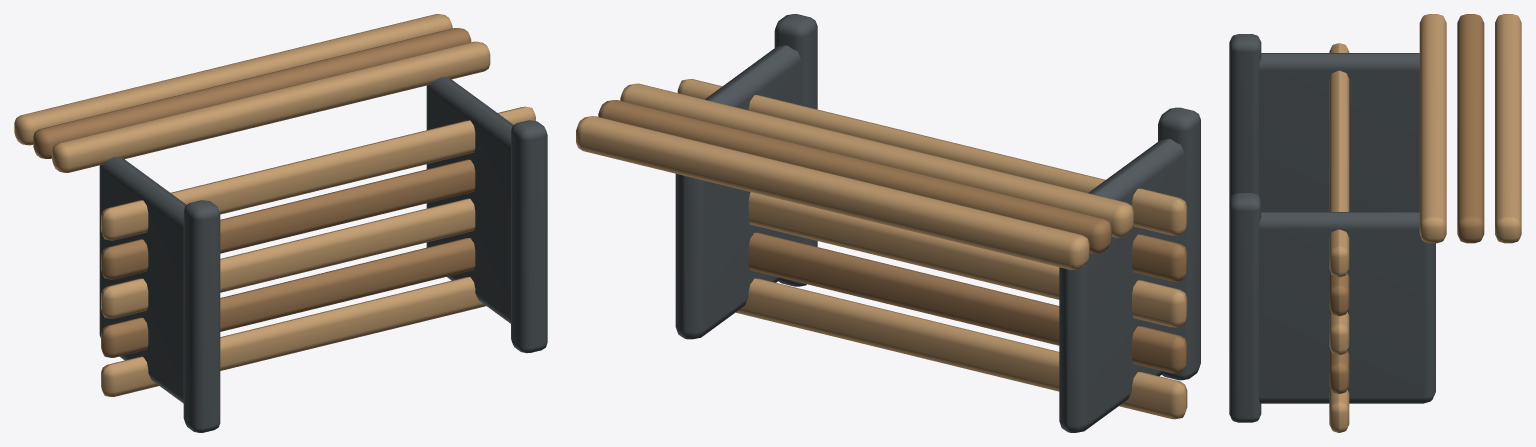
Rendered from banc_baie_des_rois.glb.
3 views of the same model, side by side, from view 1: azimuth 30°, elevation 25°; view 2: azimuth 150°, elevation 25°; view 3: azimuth 270°, elevation 25° (orthographic). The views are drawn at different scales.
Parts seen in each view (by area): view 1: Back_Wood_Slat, Seat_Wood_Slat.004, Bench_Side_Frame, Seat_Wood_Slat, Bench_Side_Frame.001, Seat_Wood_Slat.002, Seat_Wood_Slat.003, Seat_Wood_Slat.001, Bench_Foot, Back_Wood_Slat.002, Back_Wood_Slat.001, Bench_Foot.001; view 2: Back_Wood_Slat.002, Bench_Side_Frame, Seat_Wood_Slat, Bench_Side_Frame.001, Seat_Wood_Slat.001, Seat_Wood_Slat.002, Back_Wood_Slat, Back_Wood_Slat.001, Seat_Wood_Slat.004, Bench_Foot, Bench_Foot.001, Seat_Wood_Slat.003; view 3: Bench_Side_Frame.001, Bench_Side_Frame, Bench_Foot.001, Back_Wood_Slat, Back_Wood_Slat.001, Back_Wood_Slat.002, Bench_Foot, Seat_Wood_Slat.004, Seat_Wood_Slat, Seat_Wood_Slat.001, Seat_Wood_Slat.003, Seat_Wood_Slat.002.
Boxes of the visible parts, box(x1,y1,x2,y2) form: Back_Wood_Slat: box(52, 41, 490, 172); Seat_Wood_Slat.004: box(101, 106, 535, 240); Bench_Side_Frame: box(99, 156, 186, 403); Seat_Wood_Slat: box(101, 277, 485, 396); Bench_Side_Frame.001: box(426, 77, 513, 323); Seat_Wood_Slat.002: box(101, 198, 475, 318); Seat_Wood_Slat.003: box(101, 159, 475, 279); Seat_Wood_Slat.001: box(101, 238, 475, 357); Bench_Foot: box(183, 200, 220, 432); Back_Wood_Slat.002: box(14, 14, 452, 145); Back_Wood_Slat.001: box(33, 28, 471, 158); Bench_Foot.001: box(511, 120, 547, 353); Back_Wood_Slat.002: box(576, 116, 1089, 269); Bench_Side_Frame: box(1059, 139, 1185, 432); Seat_Wood_Slat: box(736, 278, 1187, 419); Bench_Side_Frame.001: box(675, 45, 801, 339); Seat_Wood_Slat.001: box(748, 232, 1187, 373); Seat_Wood_Slat.002: box(748, 192, 1187, 327); Back_Wood_Slat: box(620, 83, 1133, 237); Back_Wood_Slat.001: box(598, 100, 1111, 253); Seat_Wood_Slat.004: box(677, 79, 1187, 235); Bench_Foot: box(1158, 107, 1200, 380); Bench_Foot.001: box(774, 14, 817, 286); Seat_Wood_Slat.003: box(1132, 234, 1187, 281); Bench_Side_Frame.001: box(1258, 212, 1435, 403); Bench_Side_Frame: box(1258, 53, 1419, 211); Bench_Foot.001: box(1229, 192, 1261, 422); Back_Wood_Slat: box(1419, 14, 1446, 243); Back_Wood_Slat.001: box(1457, 14, 1484, 243); Back_Wood_Slat.002: box(1495, 14, 1521, 243); Bench_Foot: box(1229, 34, 1261, 200); Seat_Wood_Slat.004: box(1329, 43, 1349, 277); Seat_Wood_Slat: box(1329, 390, 1349, 432); Seat_Wood_Slat.001: box(1329, 351, 1349, 393); Seat_Wood_Slat.003: box(1329, 273, 1349, 316); Seat_Wood_Slat.002: box(1329, 312, 1349, 354).
Size of the model in its own units: 1.85 by 0.925 by 1.09.
